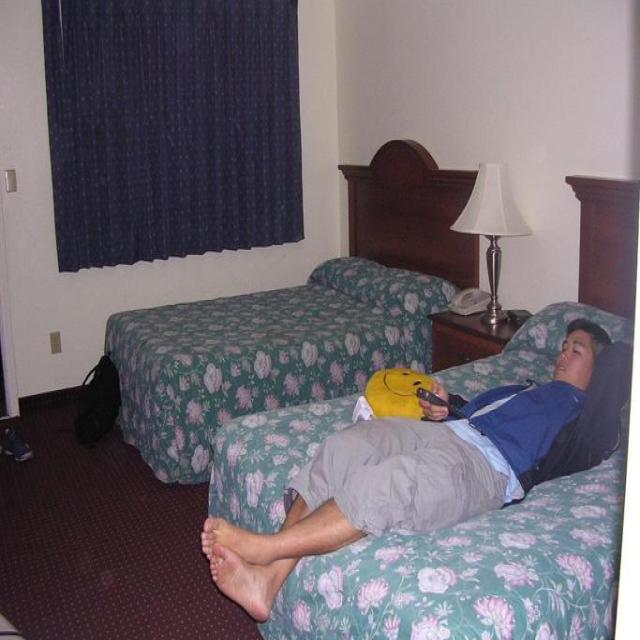bed: (204, 174, 638, 638), (103, 137, 482, 485)
curtains: (39, 0, 304, 272)
lamps: (449, 161, 532, 325)
pillows: (307, 255, 459, 317), (502, 300, 634, 356)
